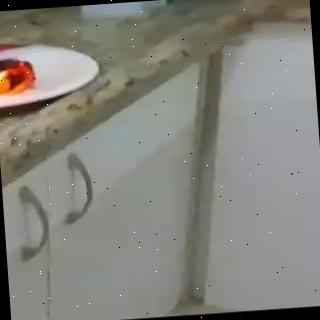fire: (0, 18, 40, 101)
